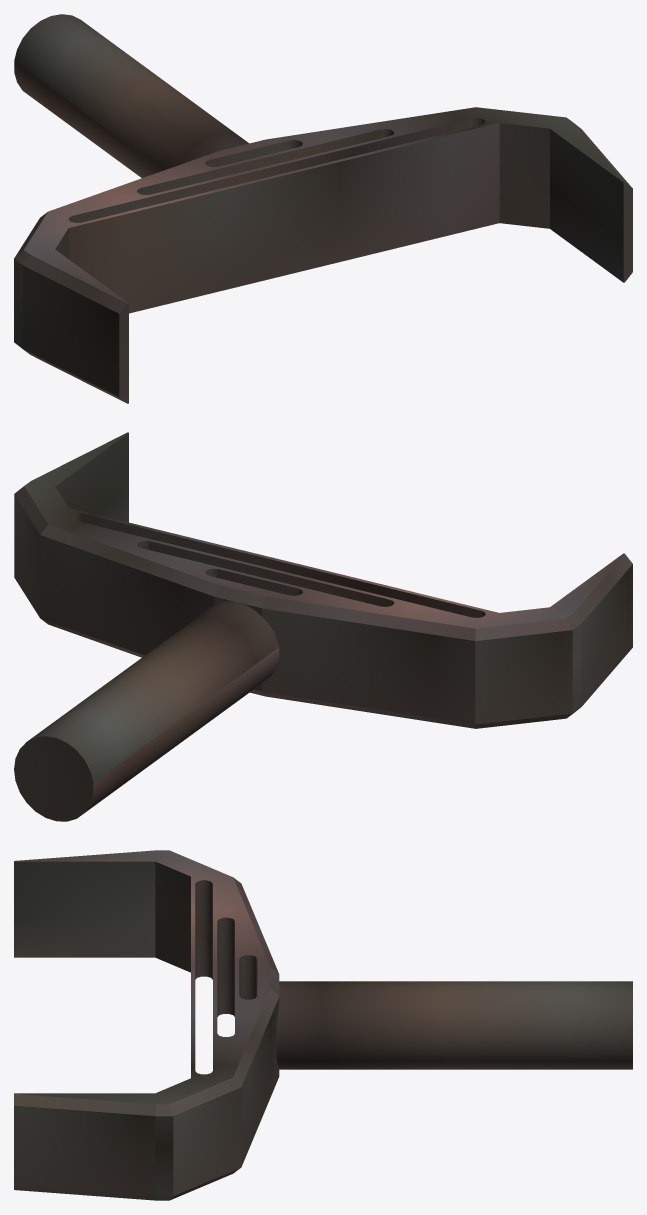
File: GreiferZ.obj
The picture shows the model from 3 angles, top to bottom: view 1: azimuth 30°, elevation 25°; view 2: azimuth 150°, elevation 25°; view 3: azimuth 270°, elevation 25°; orthographic projection. The views are drawn at different scales.
Visible parts, largest first — view 1: Solid1; view 2: Solid1; view 3: Solid1.
Boxes of the visible parts, left/top/right/bottom form: Solid1: left=14, top=14, right=632, bottom=403; Solid1: left=14, top=432, right=632, bottom=821; Solid1: left=14, top=850, right=632, bottom=1200.
Size of the model in its own units: 3.5 by 0.6 by 3.5.
Materials: 1 (1 with a texture image).
